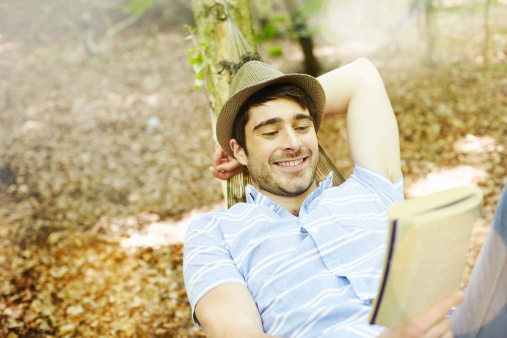deitado: (170, 49, 445, 338)
